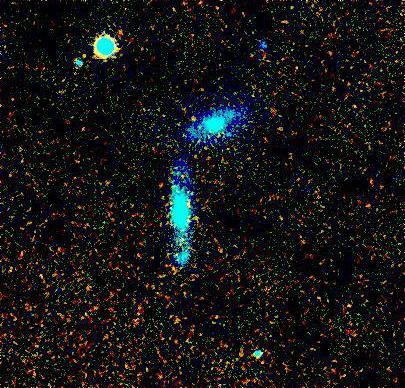star: (177, 104, 207, 134)
